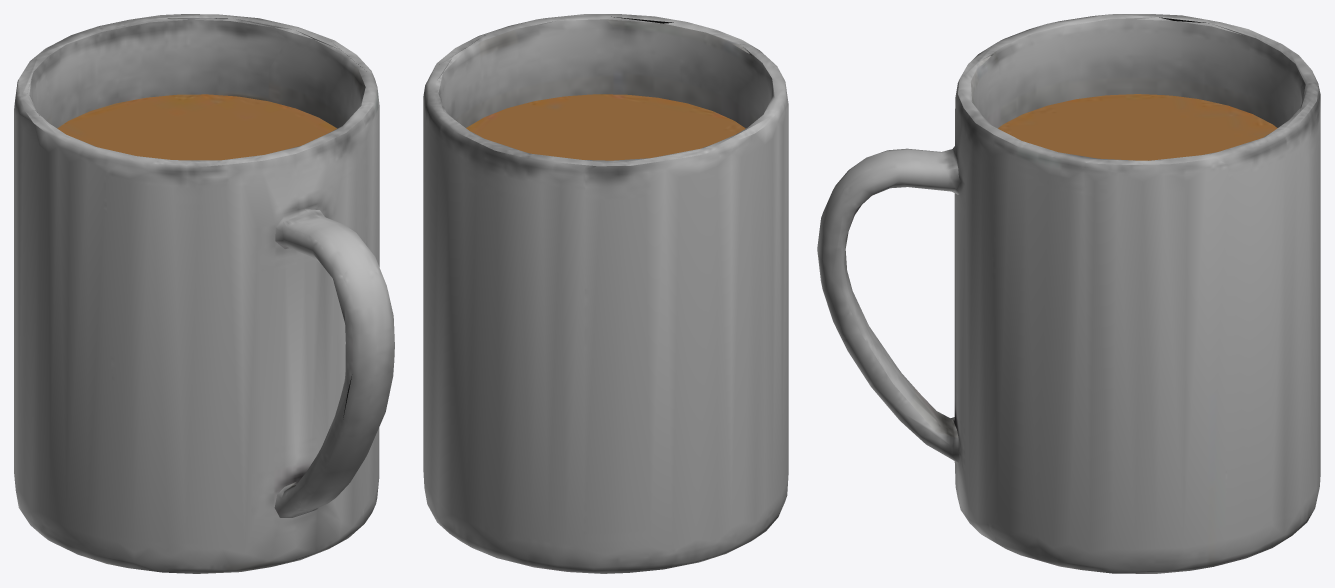
The model's file is cup.glb.
3 views of the same model, side by side, from view 1: azimuth 30°, elevation 25°; view 2: azimuth 150°, elevation 25°; view 3: azimuth 270°, elevation 25° (orthographic).
Visible parts, largest first — view 1: cup; view 2: cup; view 3: cup.
Part boxes in pixels (x1,y1,x2,y2): cup: (14, 14, 394, 573); cup: (423, 14, 788, 573); cup: (817, 14, 1320, 573).
Bounding box in the file's own units: 0.0873 × 0.1084 × 0.1202.
1 material, 1 textured.
